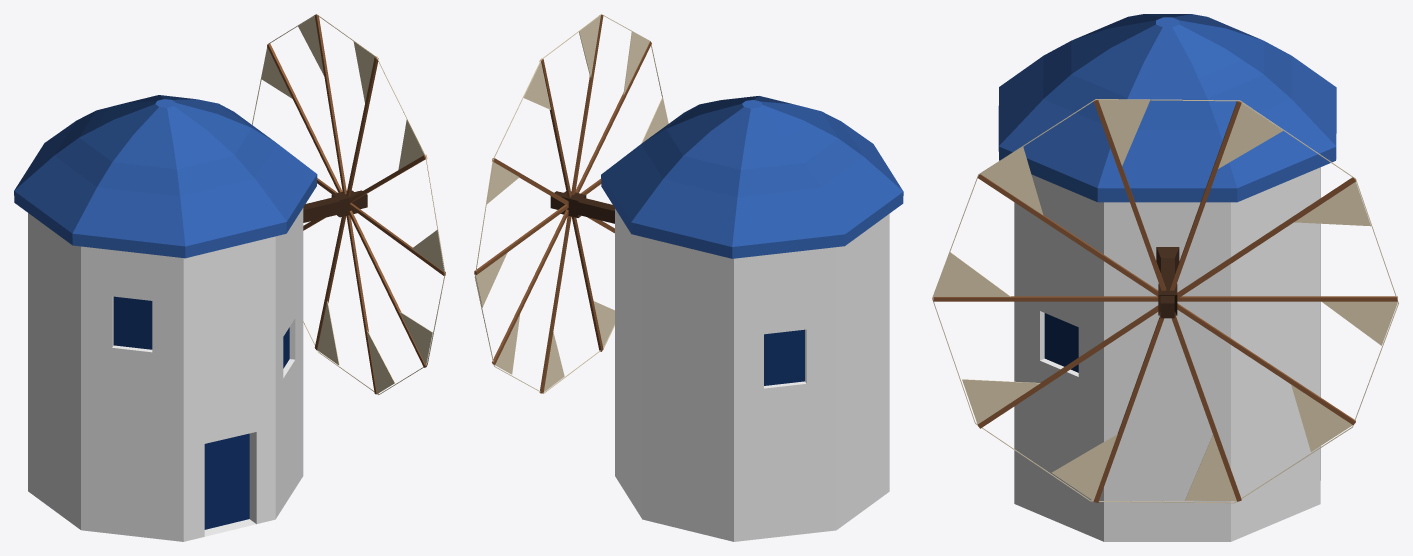
File: windmill.fbx
3 views of the same model, side by side, from view 1: azimuth 30°, elevation 25°; view 2: azimuth 150°, elevation 25°; view 3: azimuth 270°, elevation 25° (orthographic). The views are drawn at different scales.
Visible parts, largest first — view 1: windmill; view 2: windmill; view 3: windmill.
Boxes of the visible parts, bbox=[...] form: windmill: bbox=[14, 14, 445, 541]; windmill: bbox=[474, 14, 903, 541]; windmill: bbox=[932, 14, 1398, 541].
Bounding box in the file's own units: 708 × 851 × 744.
Materials: 1 (1 with a texture image).
